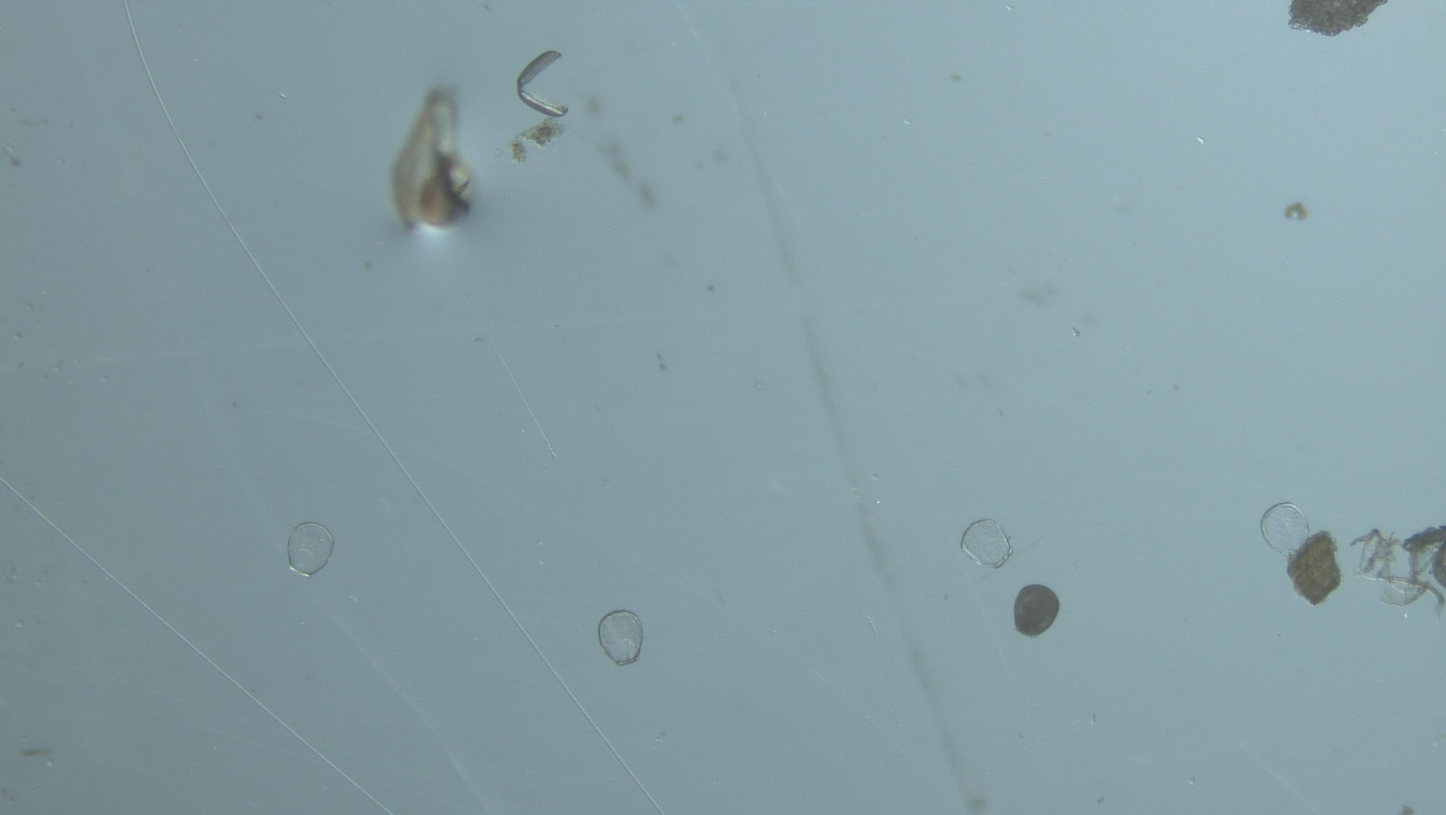dead: (961, 520, 1015, 569), (598, 611, 643, 665), (288, 523, 335, 574), (1264, 505, 1309, 553)
live: (1014, 585, 1060, 637)
